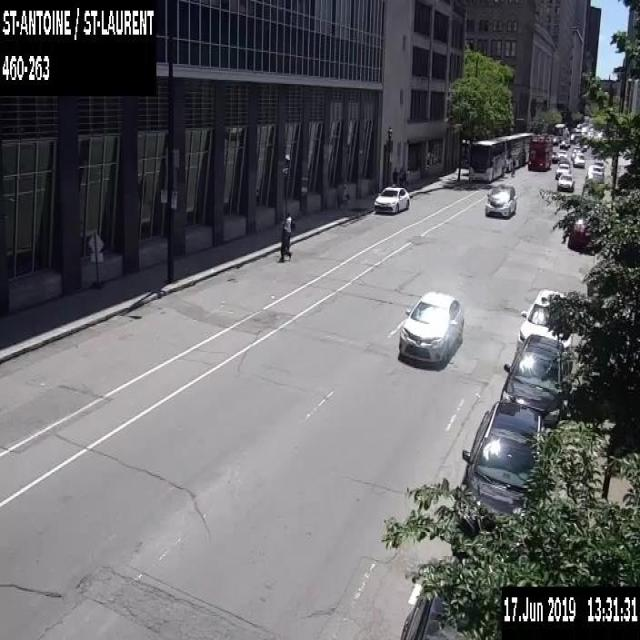bus: (469, 139, 505, 181), (490, 134, 522, 172), (526, 132, 552, 170), (510, 131, 535, 162), (551, 122, 565, 142)
construction: (87, 230, 105, 288)
pedestrian: (277, 220, 291, 263), (340, 182, 349, 213), (285, 212, 291, 250), (398, 165, 406, 185), (391, 165, 398, 185), (520, 148, 526, 166), (510, 158, 516, 176)
vehicle: (450, 399, 550, 554), (498, 333, 574, 429), (398, 289, 463, 364), (518, 287, 574, 351), (398, 595, 467, 639), (485, 184, 516, 216), (373, 185, 409, 212), (556, 172, 574, 190), (554, 162, 570, 178), (586, 164, 604, 178), (569, 127, 581, 144), (572, 152, 584, 166), (594, 158, 604, 170), (557, 149, 567, 159), (557, 157, 569, 165), (550, 150, 557, 162), (570, 150, 578, 160), (552, 135, 559, 146), (559, 140, 568, 148), (571, 146, 580, 152)
